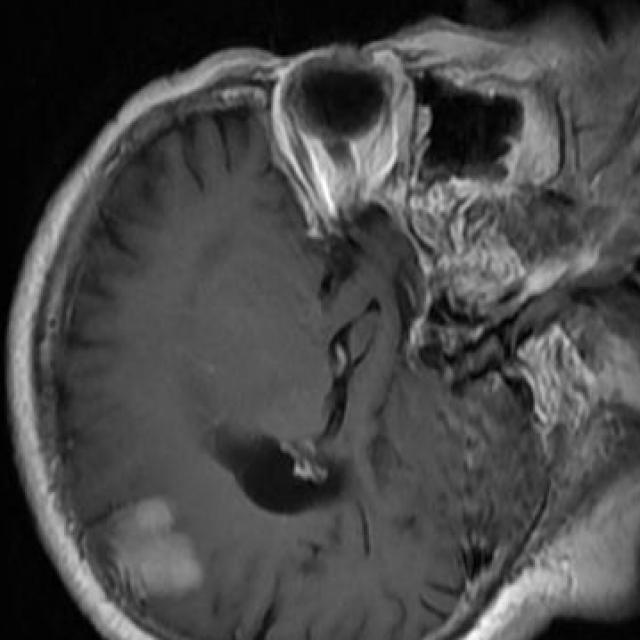meningioma: (109, 499, 203, 597)
